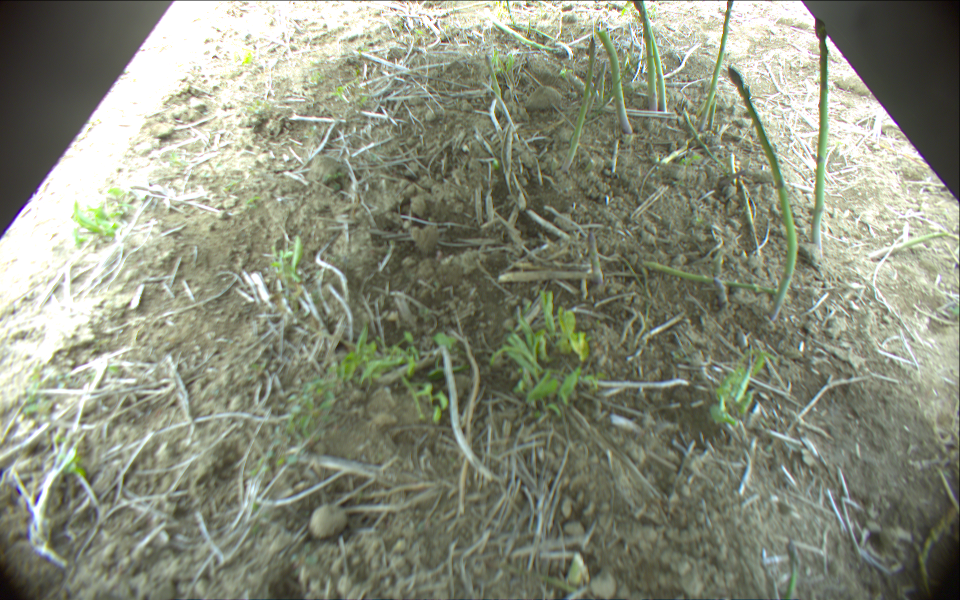aspa: (726, 63, 797, 324), (640, 259, 781, 295), (810, 20, 829, 245), (599, 31, 637, 137), (700, 1, 731, 130), (633, 1, 667, 111), (570, 36, 594, 169), (633, 1, 658, 113), (683, 109, 730, 168), (869, 231, 960, 261), (486, 11, 551, 51), (583, 231, 608, 291), (481, 54, 504, 101), (713, 254, 729, 305), (706, 94, 719, 132), (599, 60, 605, 106)
